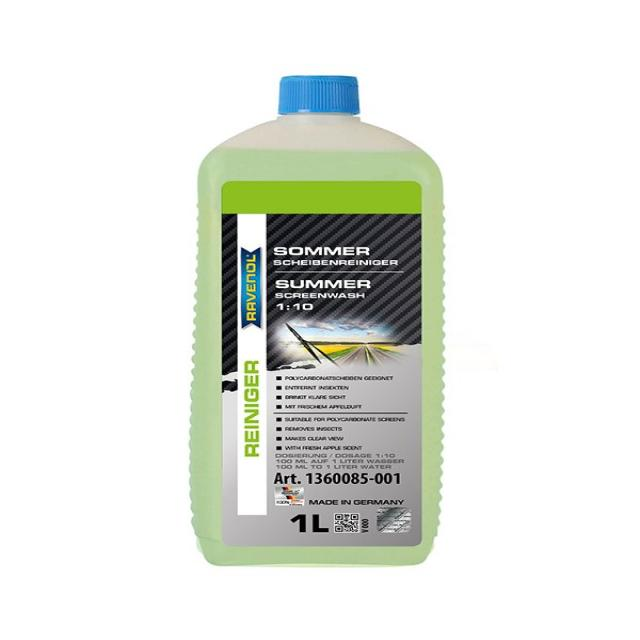winwinshield_washer: (183, 71, 455, 574)
